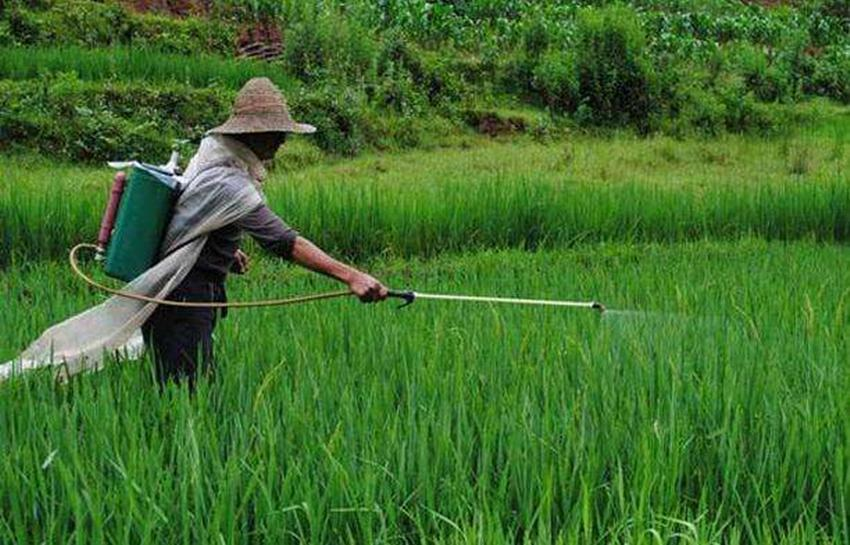berrl: (106, 164, 168, 280)
